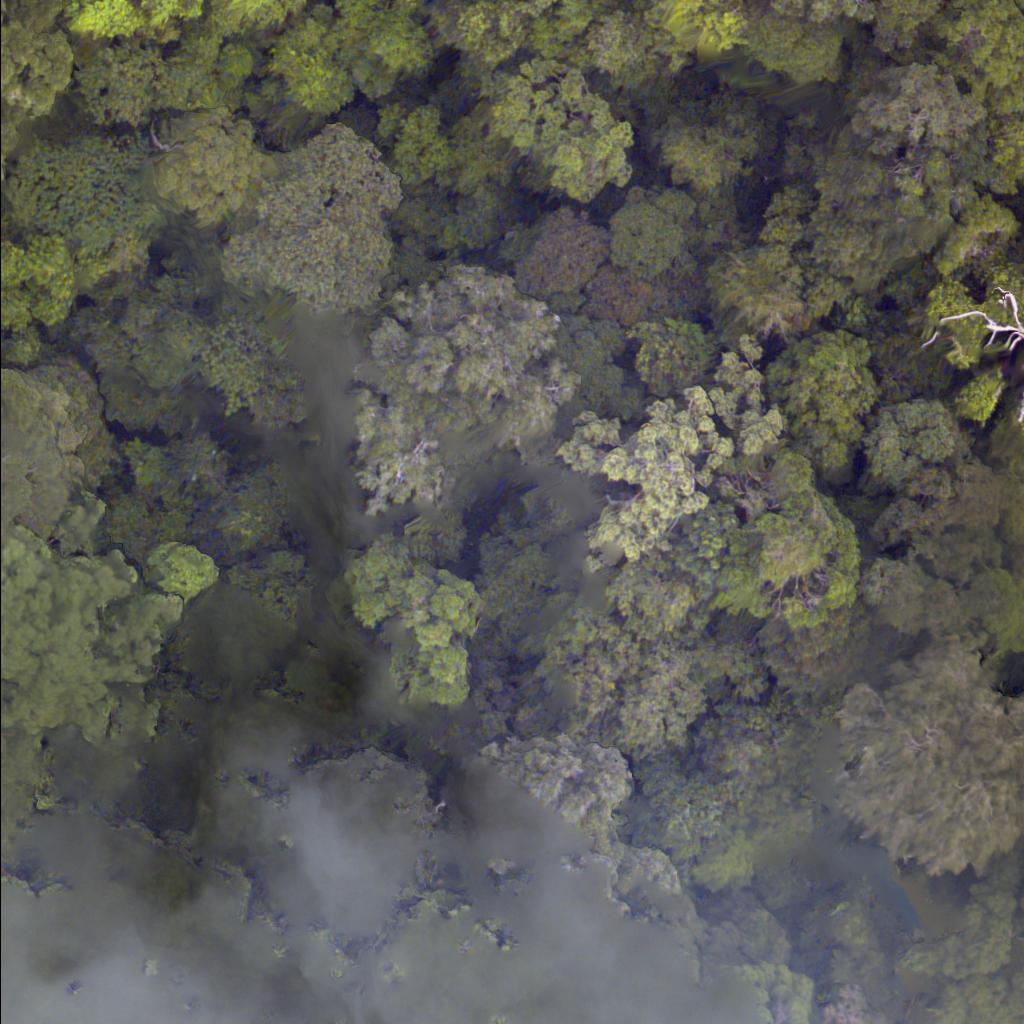crown: (0, 499, 206, 750), (572, 347, 778, 576), (836, 638, 1023, 882), (539, 575, 769, 760), (366, 286, 570, 458), (235, 124, 413, 317), (875, 457, 1023, 659), (695, 450, 857, 627), (83, 265, 228, 446), (338, 549, 492, 702), (10, 148, 155, 279), (768, 336, 888, 472), (145, 108, 278, 222), (0, 375, 83, 545), (859, 68, 992, 151), (334, 0, 440, 102), (0, 234, 80, 369), (200, 327, 305, 427), (507, 209, 610, 308), (610, 183, 694, 277), (654, 121, 755, 192), (863, 403, 958, 478), (651, 0, 746, 70), (630, 320, 715, 394), (73, 0, 200, 48), (138, 543, 229, 603), (580, 271, 650, 323), (211, 0, 303, 35)
